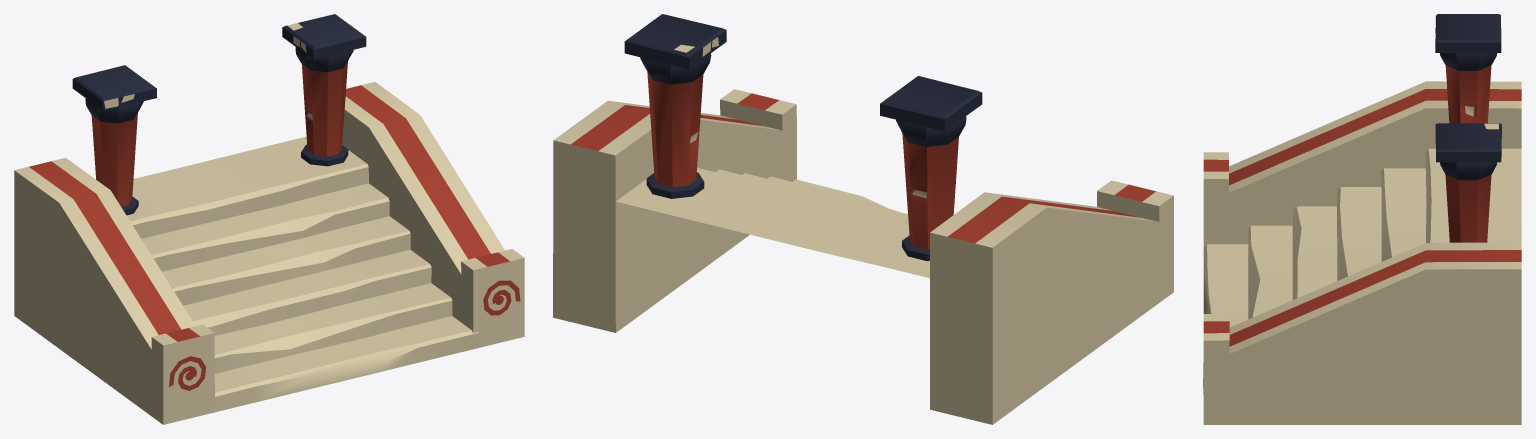
The model's file is stamp-stair-0.glb.
3 views of the same model, side by side, from view 1: azimuth 30°, elevation 25°; view 2: azimuth 150°, elevation 25°; view 3: azimuth 270°, elevation 25° (orthographic). The views are drawn at different scales.
Visible parts, largest first — view 1: stamp-stair-0; view 2: stamp-stair-0; view 3: stamp-stair-0.
Part boxes in pixels (x1=…): stamp-stair-0: x1=14, y1=14, x2=524, y2=424; stamp-stair-0: x1=553, y1=14, x2=1173, y2=424; stamp-stair-0: x1=1203, y1=14, x2=1521, y2=424.
Bounding box in the file's own units: 4.2 × 2.6 × 3.02.
